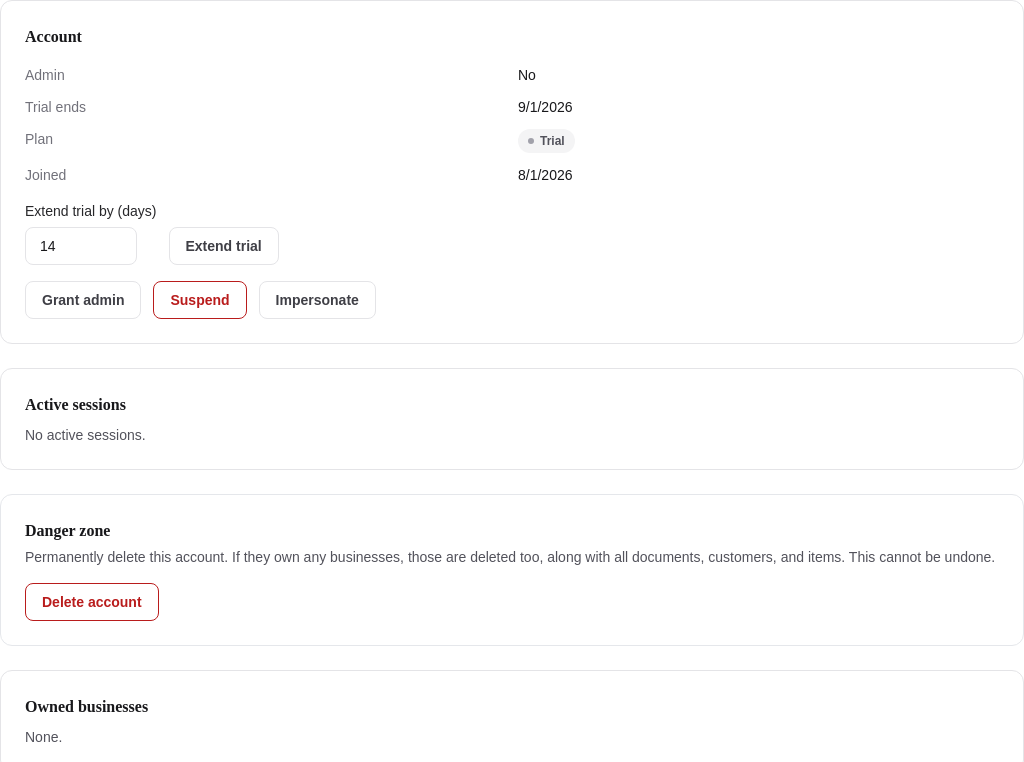
AdminUserDetail › suspends the account after confirming in the modal
This screenshot has width=1024, height=762.
Click the button "Suspend": (200, 300) [154,281,247,319]
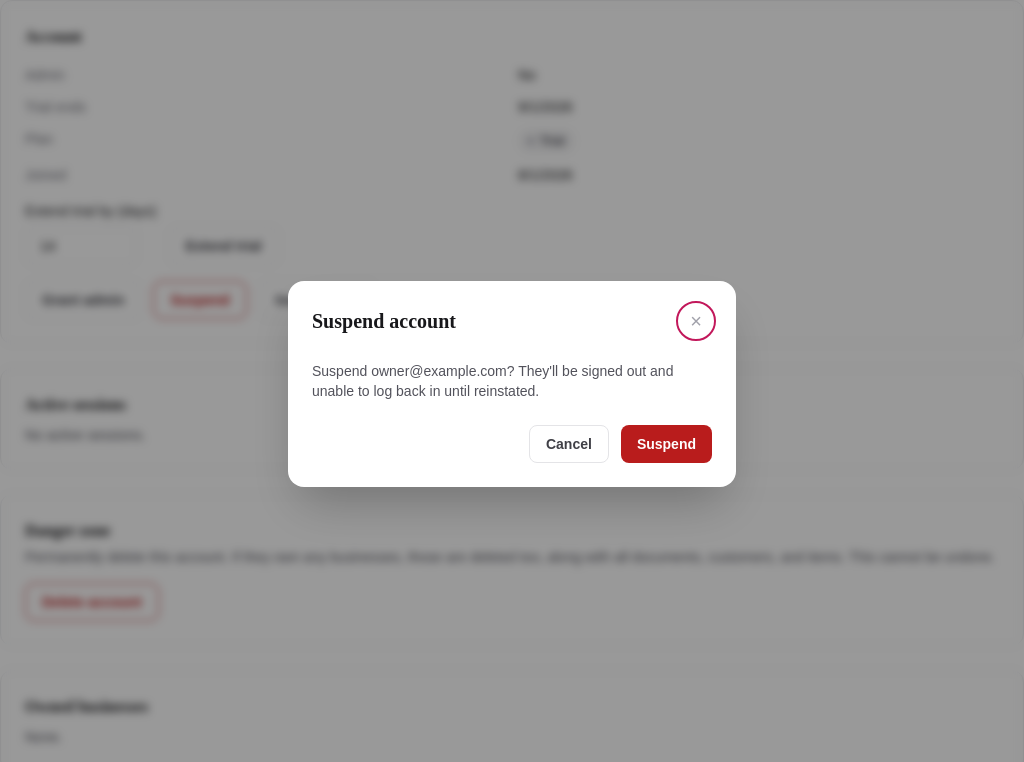
Click the button "Suspend": (666, 444) [621,425,712,463]
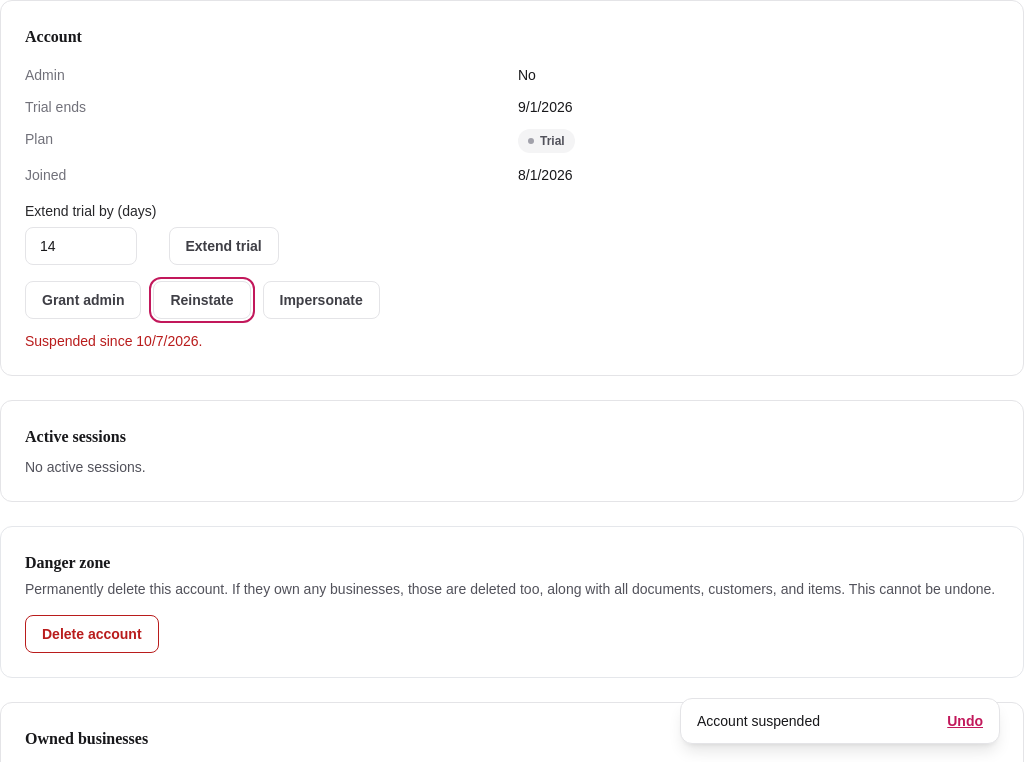
Expected: the button "Reinstate" is shown, [154,281,250,319]
Expected: the text "Suspended since 10/7/2026." is shown, [25,333,202,349]
Expected: the text "Account suspended" is shown, [697,713,820,729]
